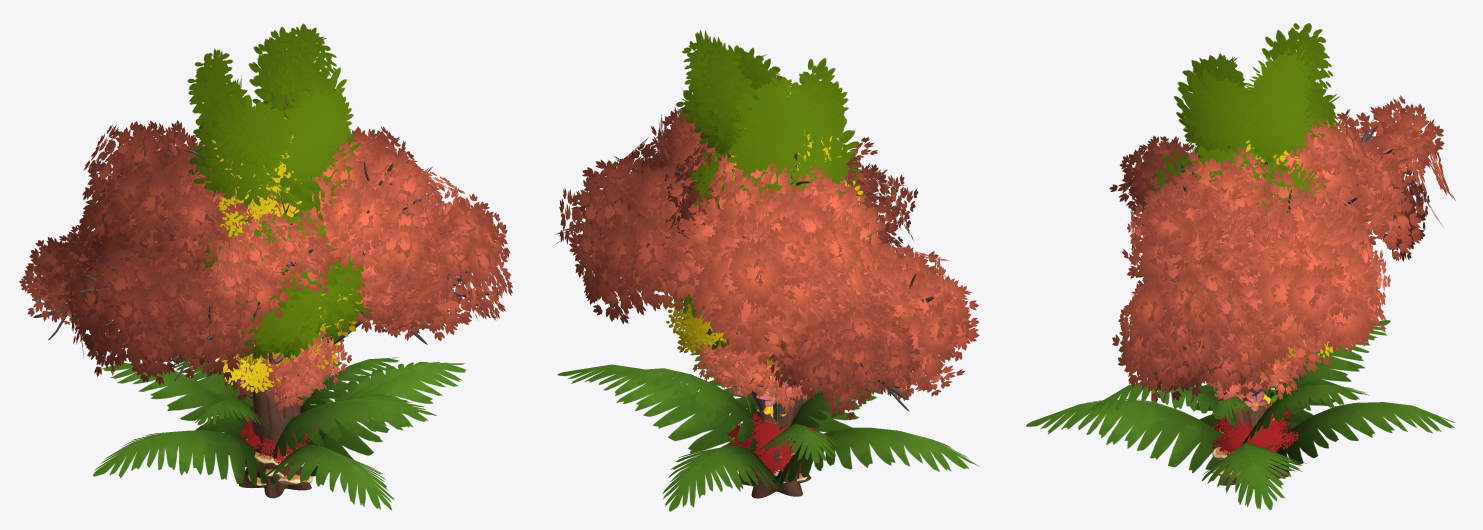
The model's file is nature.glb.
3 views of the same model, side by side, from view 1: azimuth 30°, elevation 25°; view 2: azimuth 150°, elevation 25°; view 3: azimuth 270°, elevation 25° (orthographic). The views are drawn at different scales.
Visible parts, largest first — view 1: MapleTree_3, MapleTree_5, Fern, CommonTree_3, MapleTree_2, CommonTree_4, MapleTree_1, CommonTree_2, CommonTree_1, MapleTree_4, BirchTree_2, BirchTree_4 (+2 smaller); view 2: MapleTree_3, Fern, MapleTree_2, MapleTree_5, CommonTree_3, CommonTree_4, MapleTree_4, MapleTree_1, Bush_Common, CommonTree_2, BirchTree_5; view 3: MapleTree_3, Fern, MapleTree_5, CommonTree_4, MapleTree_2, CommonTree_3, MapleTree_1, Bush_Common, CommonTree_2, MapleTree_4.
Boxes of the visible parts, x1,y1,x2,y2 form: MapleTree_3: (69, 120, 513, 382); MapleTree_5: (123, 134, 465, 385); Fern: (93, 357, 466, 510); CommonTree_3: (187, 27, 357, 498); MapleTree_2: (19, 209, 343, 340); CommonTree_4: (193, 23, 360, 494); MapleTree_1: (170, 192, 489, 343); CommonTree_2: (189, 141, 365, 497); CommonTree_1: (190, 181, 373, 487); MapleTree_4: (218, 330, 351, 410); BirchTree_2: (211, 117, 336, 366); BirchTree_4: (216, 330, 340, 393); MapleTree_3: (555, 137, 979, 421); Fern: (557, 331, 979, 511); MapleTree_2: (662, 137, 920, 420); MapleTree_5: (639, 107, 949, 403); CommonTree_3: (694, 37, 859, 496); CommonTree_4: (676, 30, 848, 498); MapleTree_4: (693, 335, 814, 413); MapleTree_1: (618, 165, 863, 400); Bush_Common: (727, 413, 817, 478); CommonTree_2: (675, 152, 860, 498); BirchTree_5: (666, 296, 728, 354); MapleTree_3: (1112, 95, 1455, 403); Fern: (1026, 320, 1455, 509); MapleTree_5: (1121, 112, 1374, 296); CommonTree_4: (1174, 23, 1339, 485); MapleTree_2: (1109, 135, 1429, 407); CommonTree_3: (1149, 33, 1338, 488); MapleTree_1: (1128, 176, 1376, 400); Bush_Common: (1209, 401, 1298, 459); CommonTree_2: (1138, 140, 1326, 485); MapleTree_4: (1201, 346, 1308, 410).
Size of the model in its own units: 9.05 by 9.44 by 8.49.
Materials: 11 (11 with a texture image).
